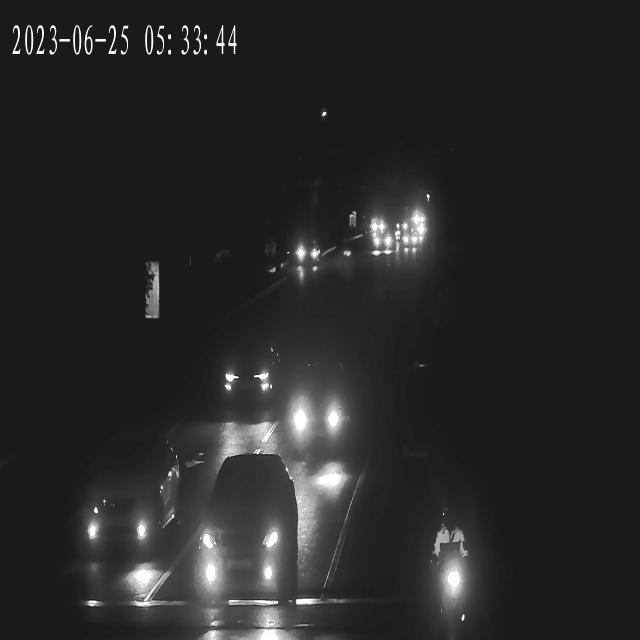Car: (199, 455, 301, 619), (85, 424, 184, 568), (290, 365, 348, 458), (219, 331, 276, 408), (369, 226, 395, 264), (297, 231, 324, 265), (399, 230, 421, 256), (388, 217, 410, 233), (371, 212, 383, 232)
Motorcycle: (436, 501, 472, 640)
